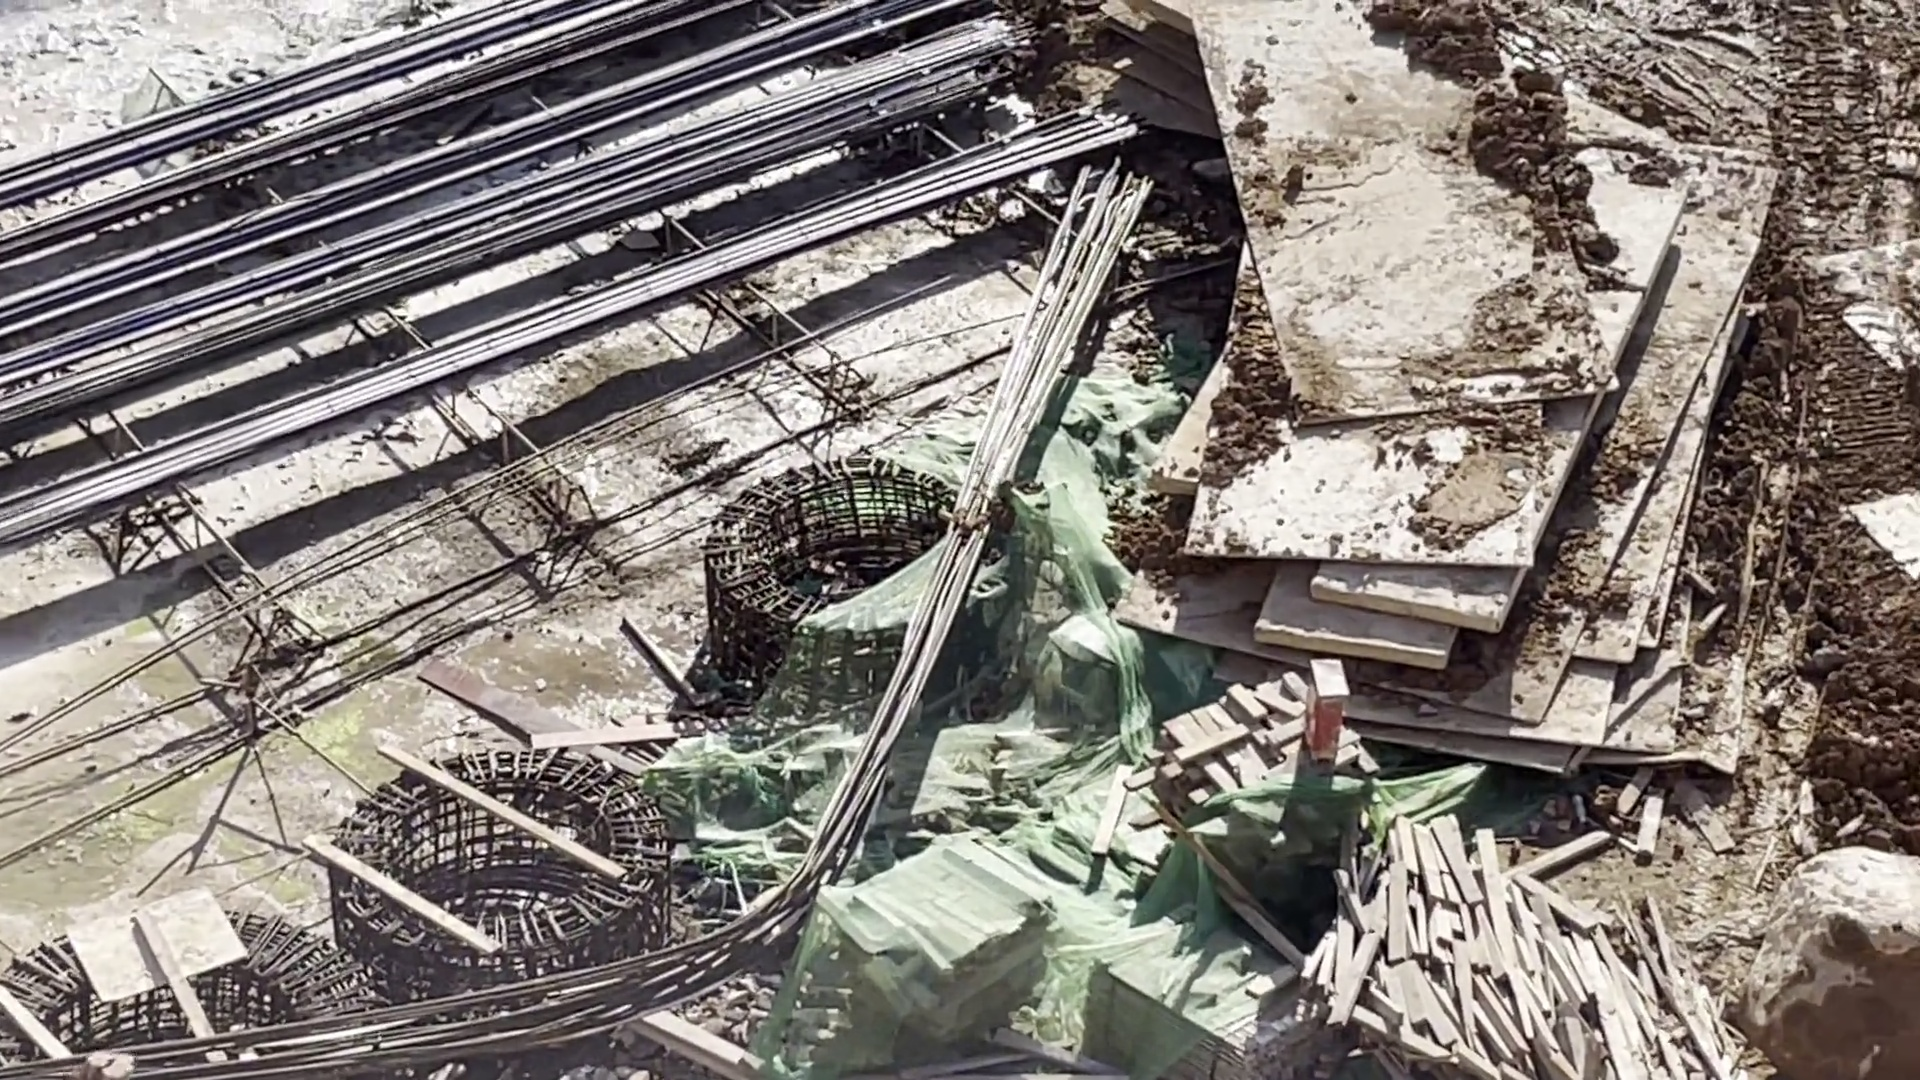board: (1213, 7, 1746, 779)
rebar: (7, 1, 1063, 564), (899, 123, 1215, 746), (25, 855, 761, 1080)
wood: (1333, 816, 1741, 1080), (843, 833, 1042, 1040), (1079, 947, 1320, 1080)
